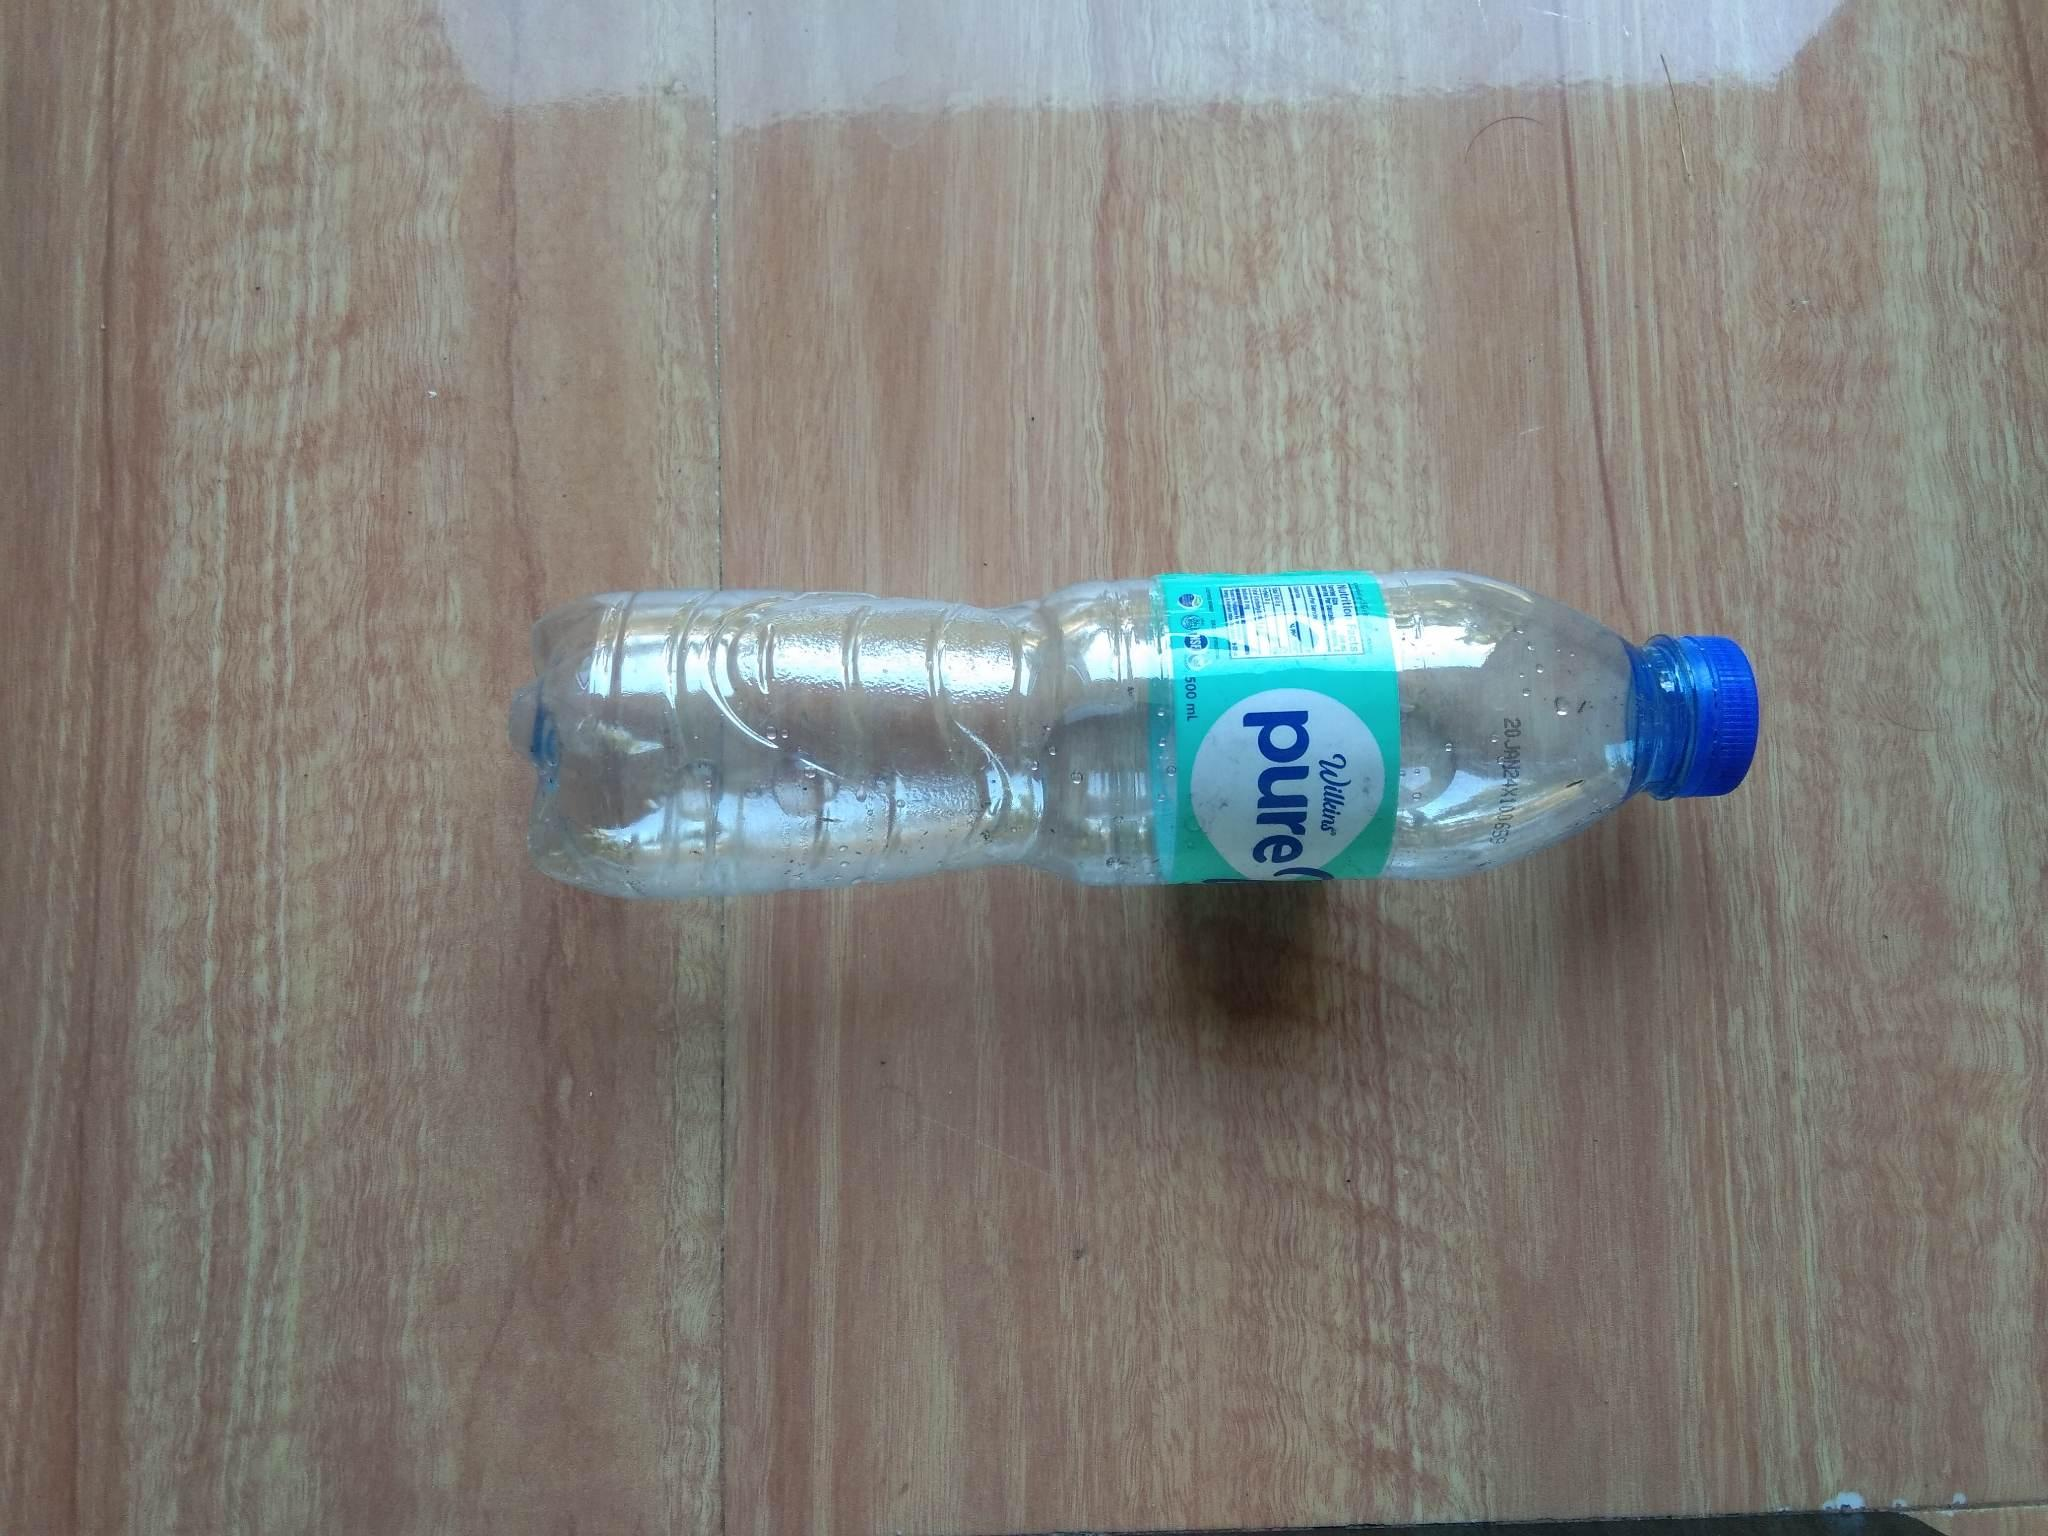plastic: (327, 557, 1846, 981)
